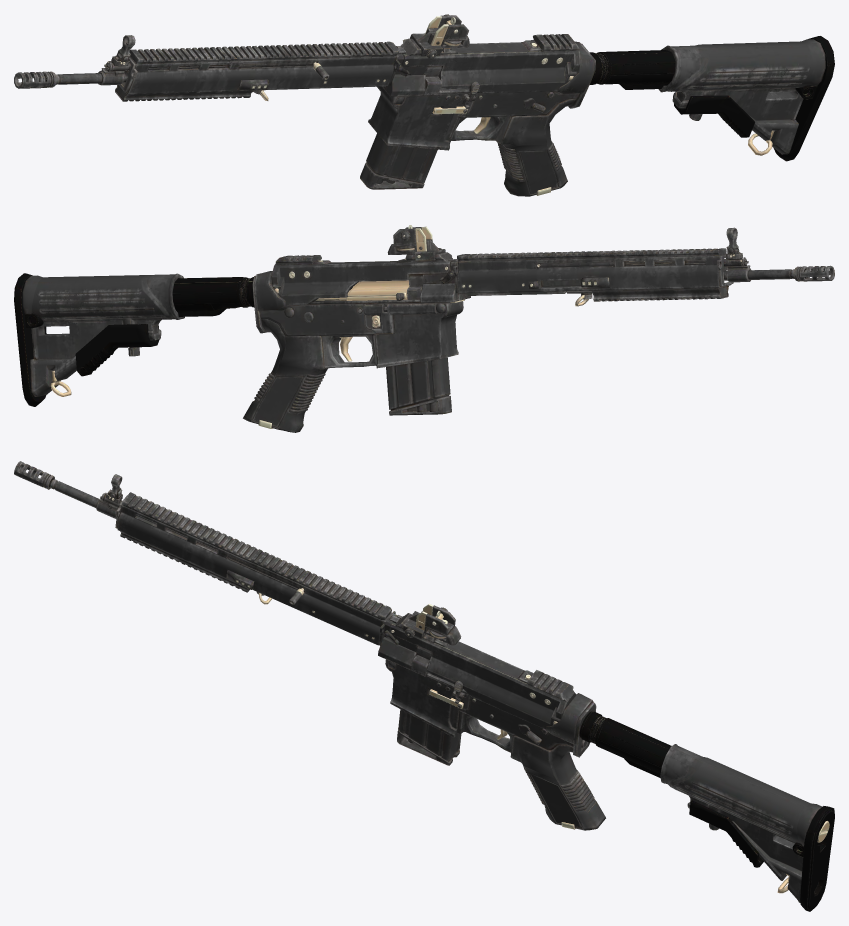
The model's file is weapon-compressed.glb.
The picture shows the model from 3 angles, top to bottom: view 1: azimuth 30°, elevation 25°; view 2: azimuth 150°, elevation 25°; view 3: azimuth 330°, elevation 25°; orthographic projection. The views are drawn at different scales.
Visible parts, largest first — view 1: lower_receiver_02.frozen_Material_0; view 2: lower_receiver_02.frozen_Material_0; view 3: lower_receiver_02.frozen_Material_0.
Boxes of the visible parts, box(x1,y1,x2,y2) form: lower_receiver_02.frozen_Material_0: box(14, 14, 834, 196); lower_receiver_02.frozen_Material_0: box(14, 225, 834, 432); lower_receiver_02.frozen_Material_0: box(14, 461, 834, 911).
Bounding box in the file's own units: 2 × 0.7467 × 0.2514.
Materials: 1 (1 with a texture image).
